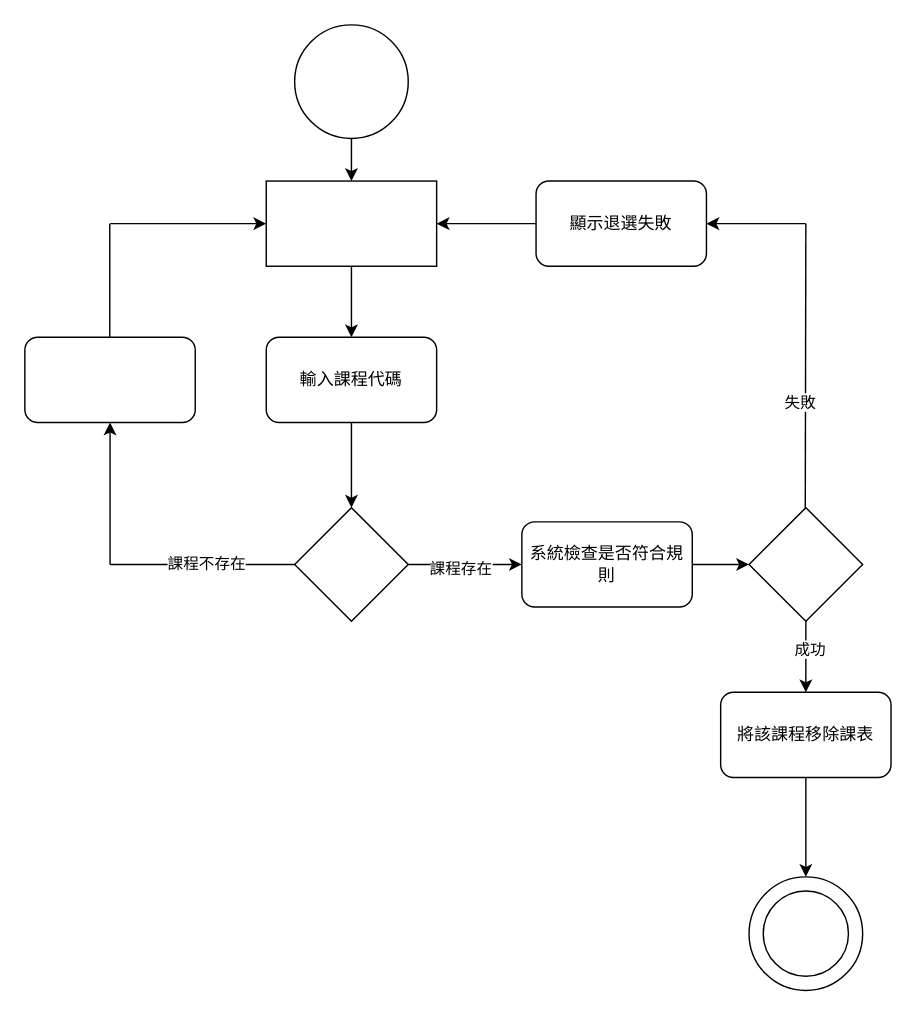
This 916x1015 diagram has some shape labels left out. The centre of each missing label's shape, as x and y in pixels:
退選頁面: point 351,223
顯示課程不存在: point 109,379
